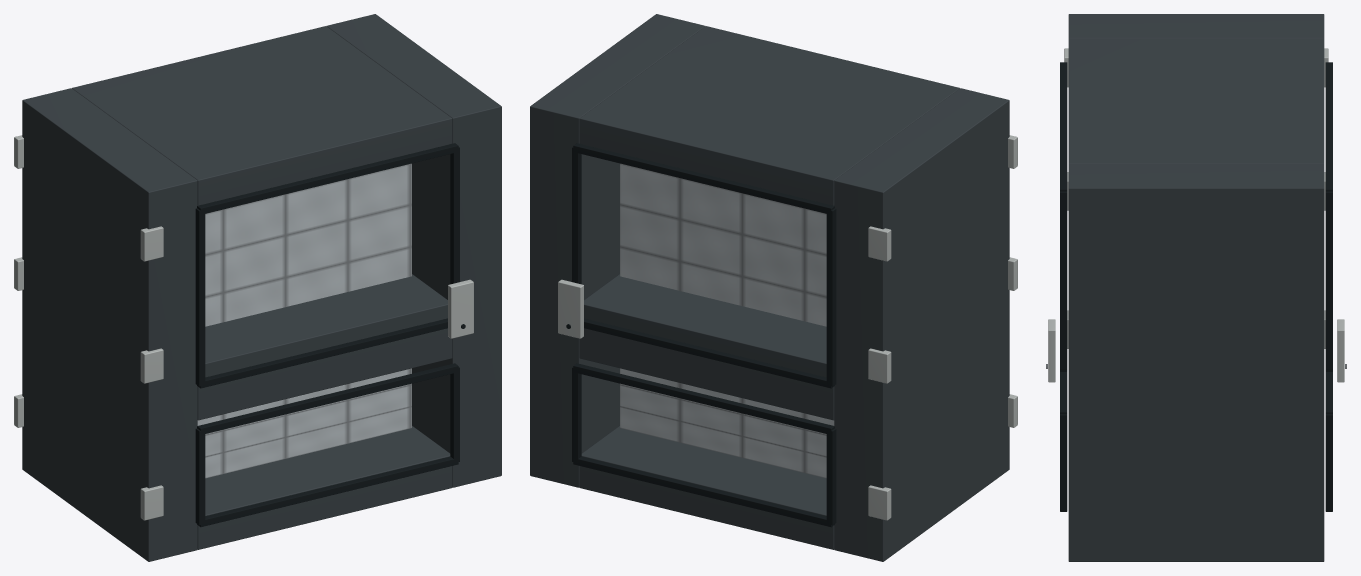
The model's file is SM_FrostedDoorLeaf.fbx.
The picture shows the model from 3 angles, left to right: view 1: azimuth 30°, elevation 25°; view 2: azimuth 150°, elevation 25°; view 3: azimuth 270°, elevation 25°; orthographic projection.
Parts seen in each view (by area): view 1: SM_FrostedDoorLeaf; view 2: SM_FrostedDoorLeaf; view 3: SM_FrostedDoorLeaf.
Boxes of the visible parts, x1=… form: SM_FrostedDoorLeaf: x1=14, y1=14, x2=501, y2=561; SM_FrostedDoorLeaf: x1=530, y1=14, x2=1017, y2=561; SM_FrostedDoorLeaf: x1=1046, y1=14, x2=1346, y2=561.
Bounding box in the file's own units: 102 × 72.7 × 100.
4 materials, 1 textured.
